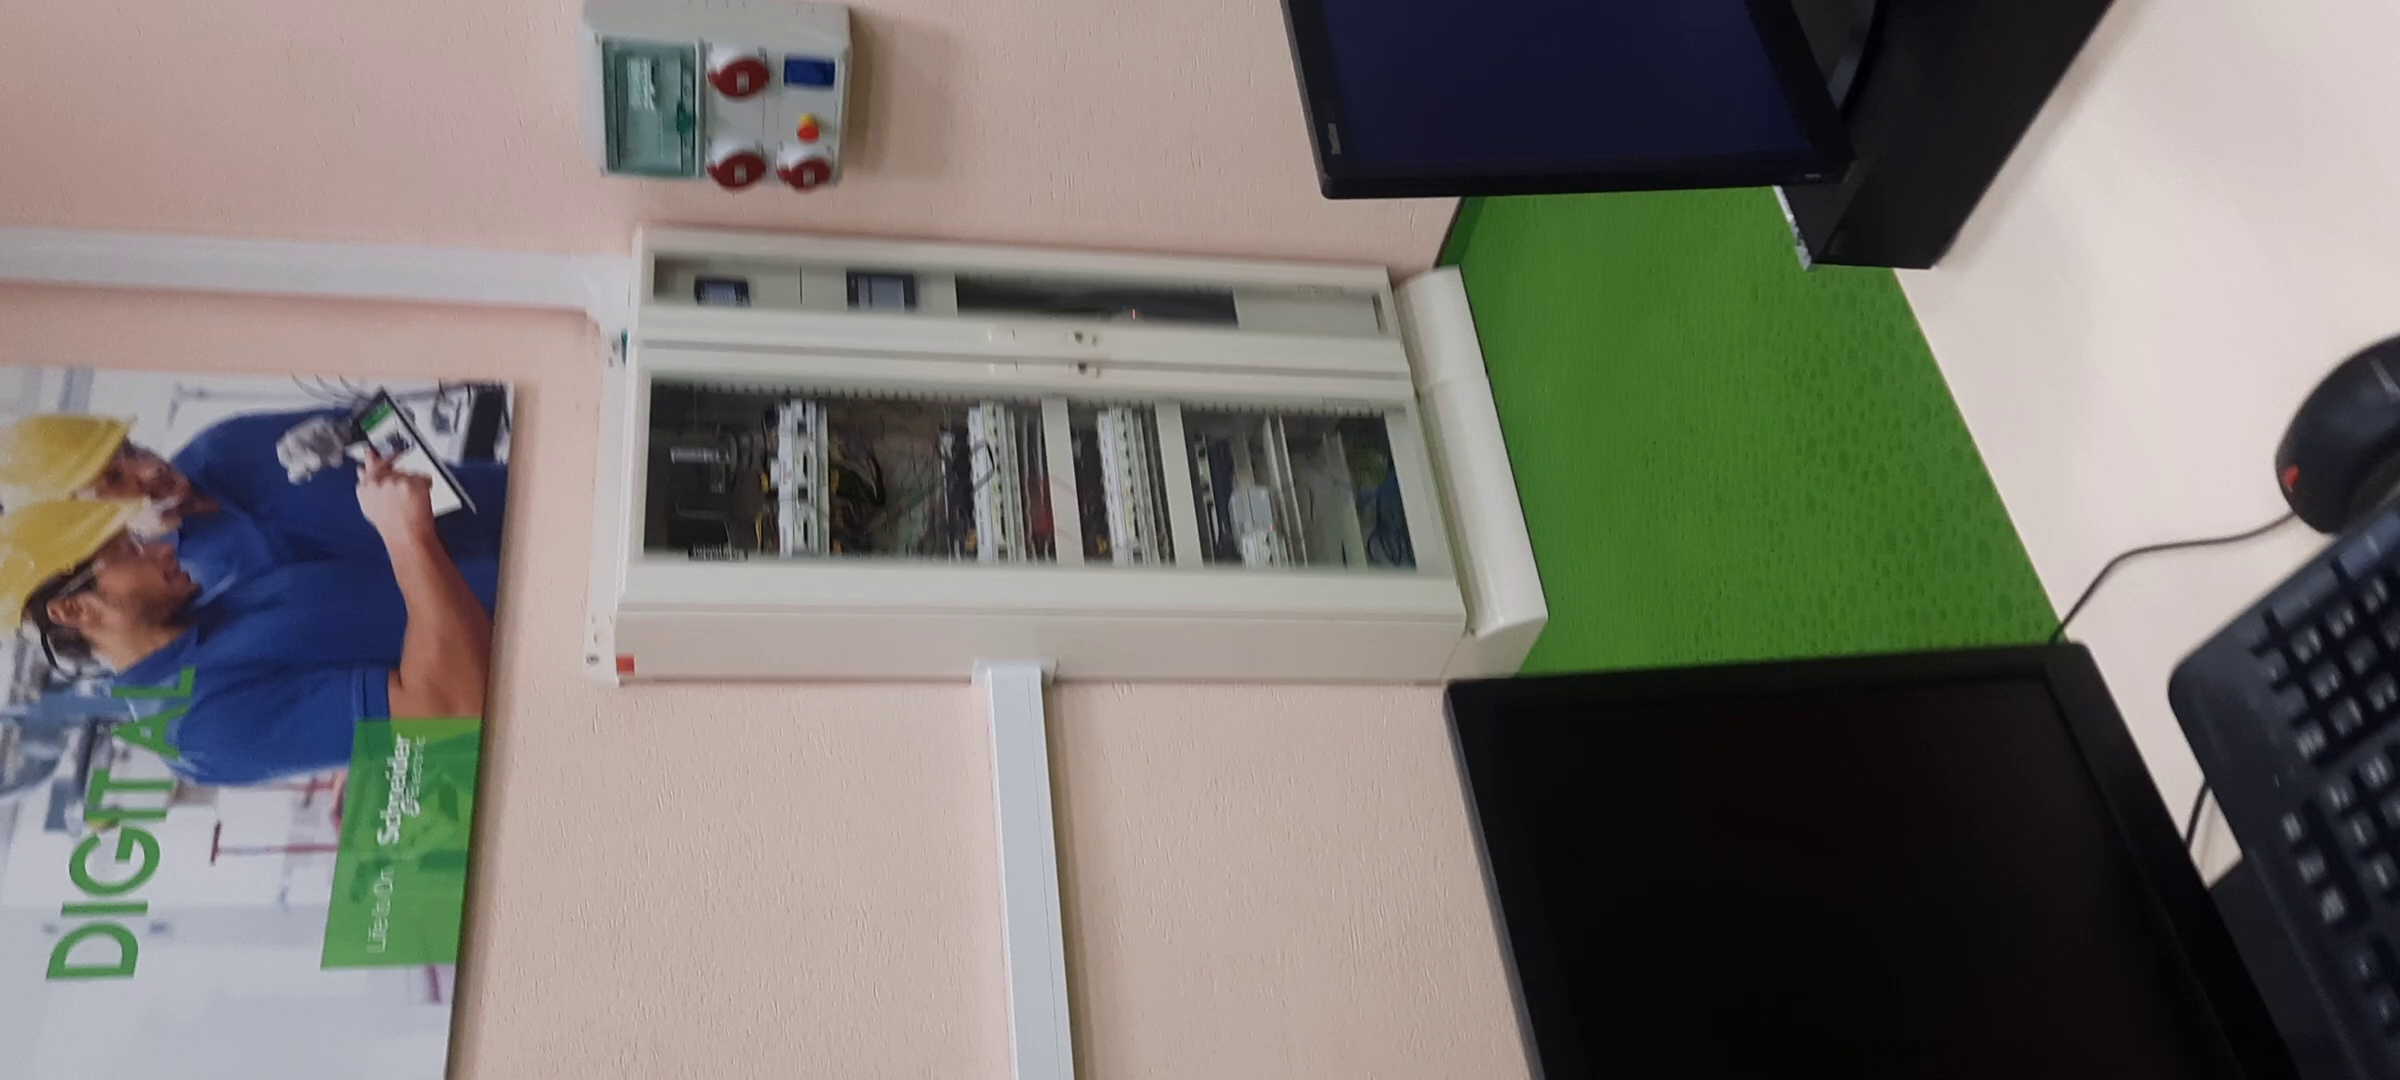stand1: (595, 229, 1544, 678)
